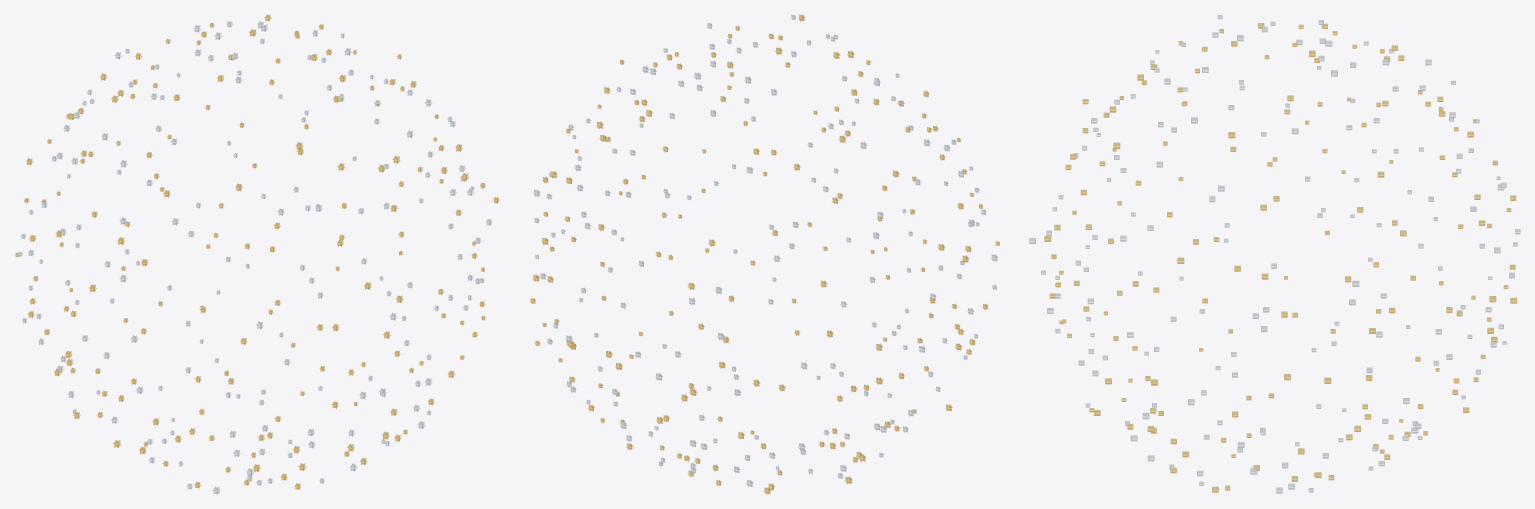
File: fw_peony_blue_silver_c.glb
3 views of the same model, side by side, from view 1: azimuth 30°, elevation 25°; view 2: azimuth 150°, elevation 25°; view 3: azimuth 270°, elevation 25° (orthographic). The views are drawn at different scales.
Visible parts, largest first — view 1: spire; view 2: spire; view 3: spire.
Part boxes in pixels (x1,y1,x2,y2): spire: (15,14,499,494); spire: (530,14,1000,494); spire: (1029,15,1520,493).
Bounding box in the file's own units: 23.42 × 23.21 × 23.93.
Materials: 2 (2 with a texture image).
